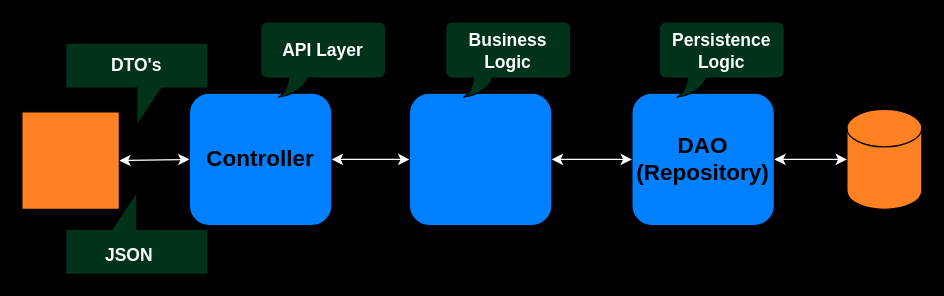
This 944x296 diagram has some shape labels left out. Each missing label, with the centre of its shape:
DB: (x=884, y=158)
Postman Client: (x=70, y=160)
Service: (x=480, y=159)
